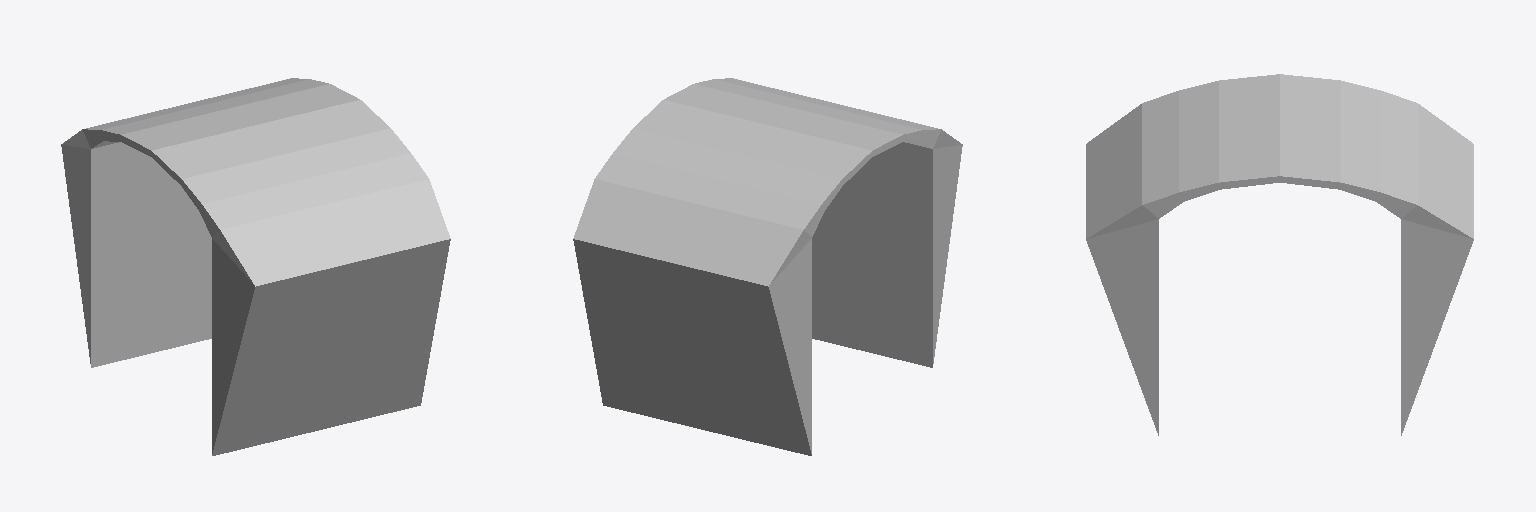
File: bridge.obj
The picture shows the model from 3 angles: view 1: azimuth 30°, elevation 25°; view 2: azimuth 150°, elevation 25°; view 3: azimuth 270°, elevation 25°; orthographic projection.
Visible parts, largest first — view 1: Cube.001; view 2: Cube.001; view 3: Cube.001.
Part boxes in pixels (left/top/right/bottom): Cube.001: left=61, top=78, right=450, bottom=455; Cube.001: left=573, top=78, right=962, bottom=455; Cube.001: left=1086, top=74, right=1473, bottom=435.
Bounding box in the file's own units: 2 × 2.39 × 3.22.